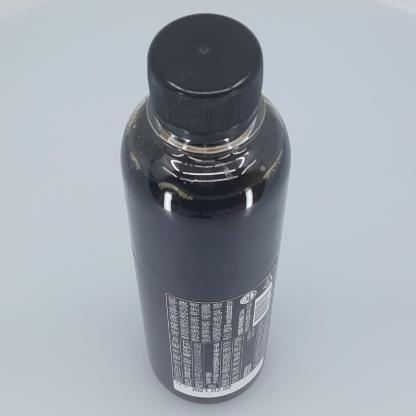--------------300ML: (120, 11, 291, 404)
